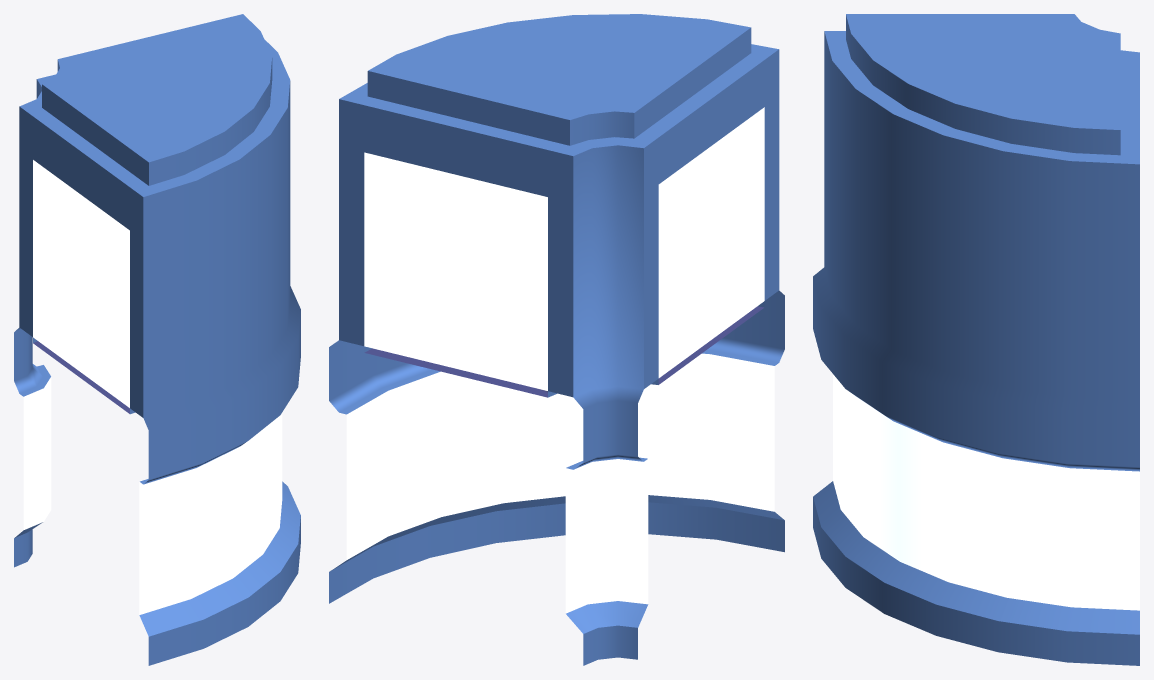
The model's file is Tile2.fbx.
3 renders of one model, left to right at view 1: azimuth 30°, elevation 25°; view 2: azimuth 150°, elevation 25°; view 3: azimuth 270°, elevation 25°, orthographic. The views are drawn at different scales.
Parts seen in each view (by area): view 1: Tile_2.002; view 2: Tile_2.002; view 3: Tile_2.002.
Boxes of the visible parts, x1,y1,x2,y2 form: Tile_2.002: [14, 14, 300, 665]; Tile_2.002: [329, 14, 784, 665]; Tile_2.002: [813, 14, 1139, 665].
Bounding box in the file's own units: 1.14 × 2 × 1.14.
